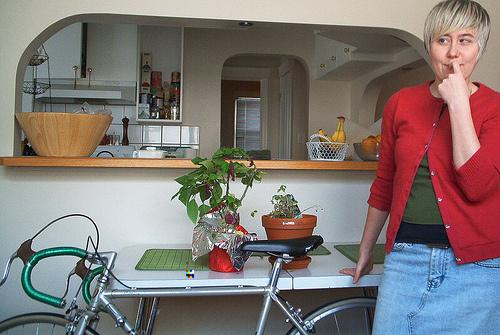car: (1, 214, 379, 335)
person: (342, 2, 500, 335)
person/hand: (436, 60, 473, 106), (339, 252, 374, 285)
person/head: (424, 1, 492, 79)
pottedplant: (171, 147, 267, 276), (263, 189, 326, 274)
